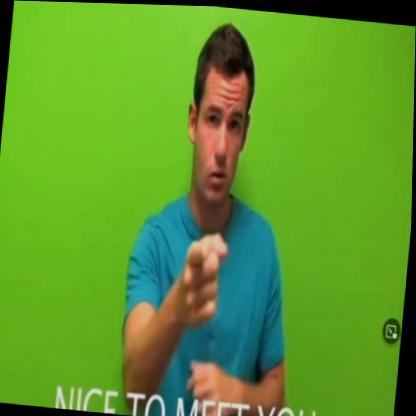NiceToMeetYou: (153, 216, 265, 416)
